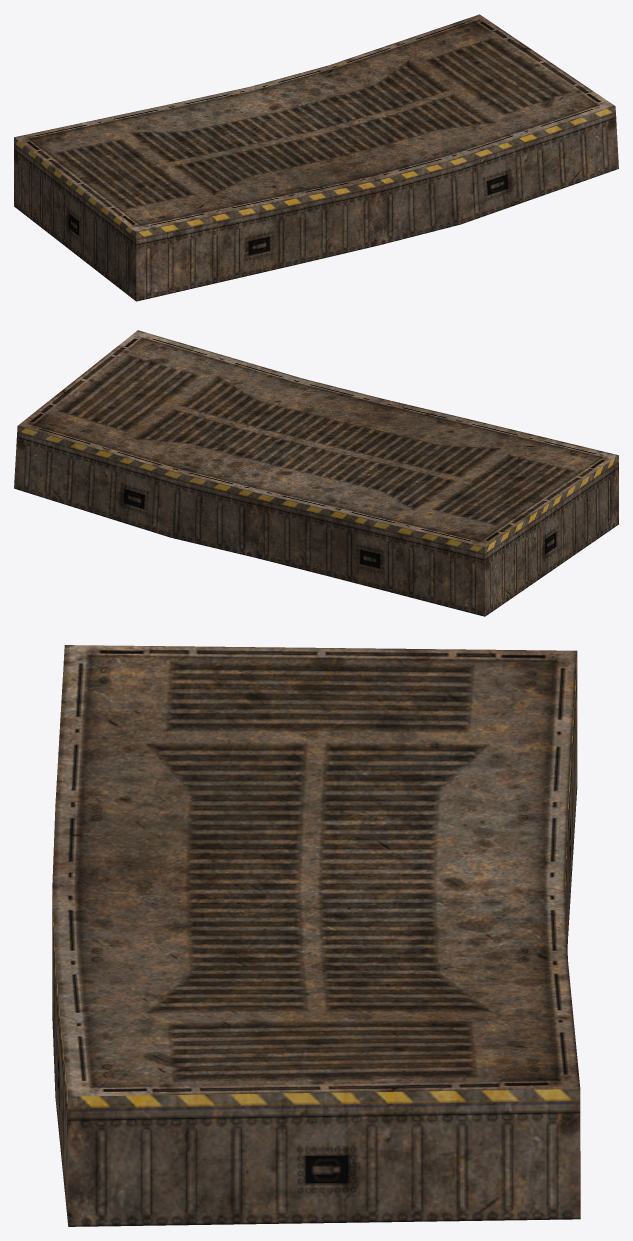
File: case.fbx
3 views of the same model, one above another, from view 1: azimuth 30°, elevation 25°; view 2: azimuth 150°, elevation 25°; view 3: azimuth 270°, elevation 25° (orthographic). The views are drawn at different scales.
Parts seen in each view (by area): view 1: Mesh; view 2: Mesh; view 3: Mesh.
Boxes of the visible parts, x1=… form: Mesh: x1=14, y1=14, x2=618, y2=301; Mesh: x1=14, y1=330, x2=618, y2=616; Mesh: x1=52, y1=645, x2=580, y2=1226.
Size of the model in its own units: 183 by 28.01 by 86.41.
